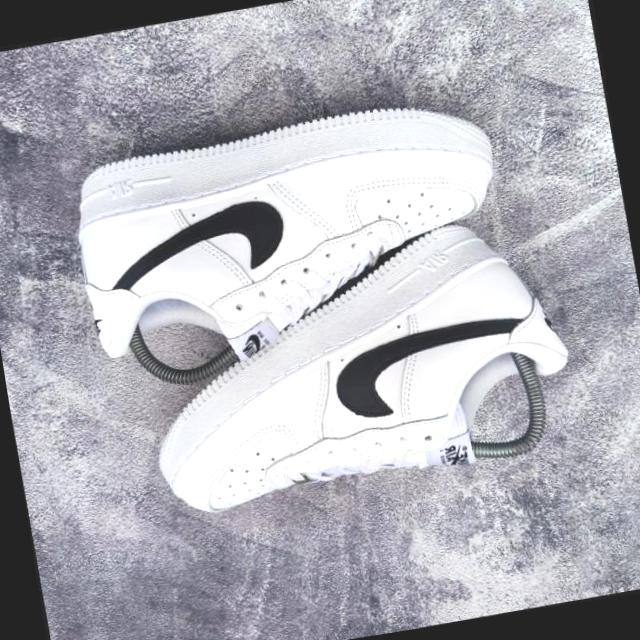nike_fake_airforce: (123, 204, 602, 522), (61, 78, 528, 397)
